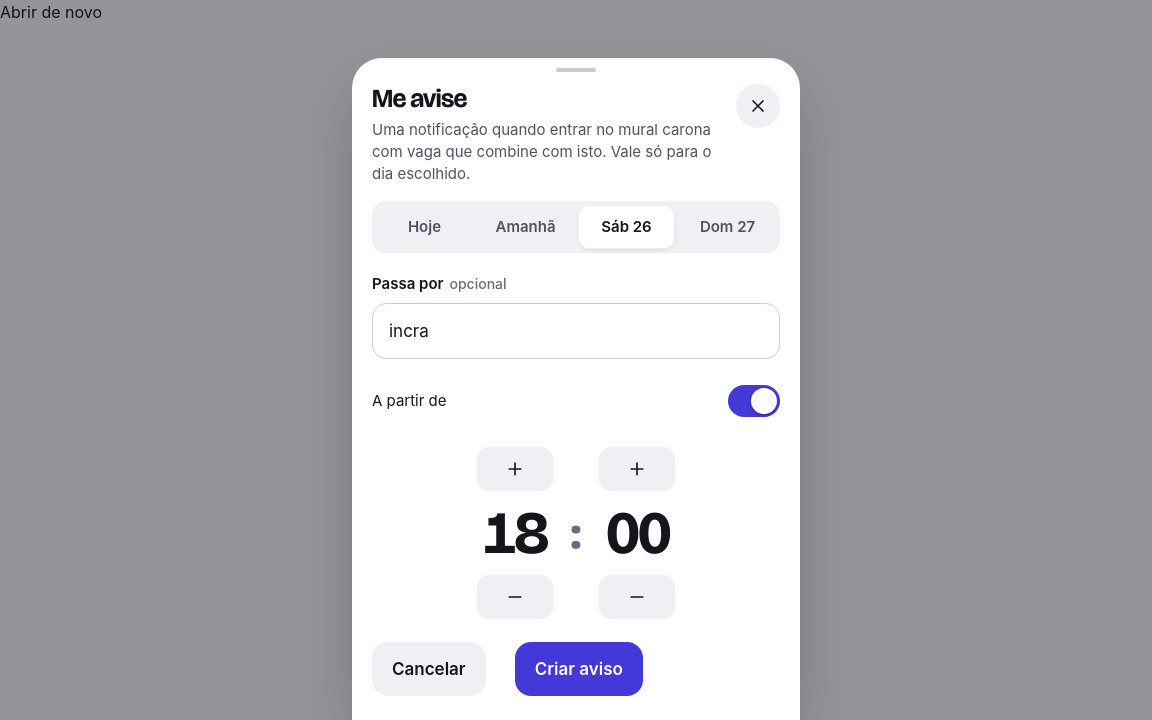
Test case: AlertSheet for an account in good standing › says nothing answered when the failure is not the API's sentence
Click the button "Criar aviso" at point(579, 669), box [515, 642, 643, 696]
(page scrolled)
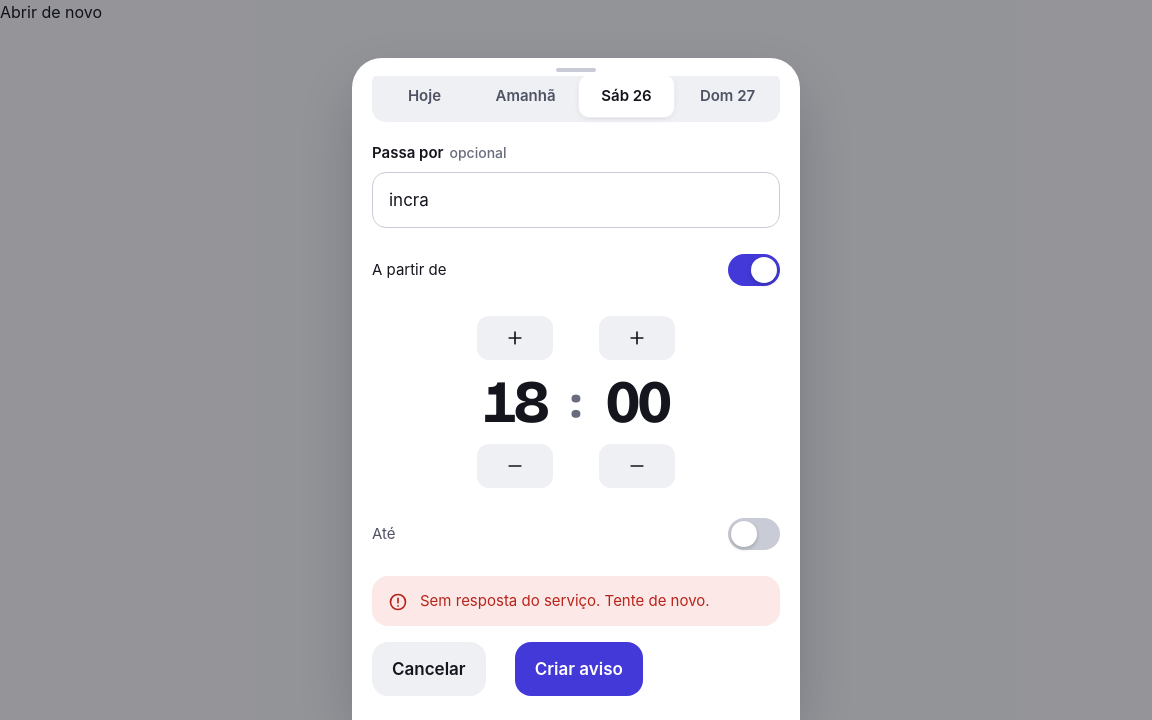
Expected: the message reads "Sem resposta do serviço. Tente de novo.", [420, 591, 710, 610]
